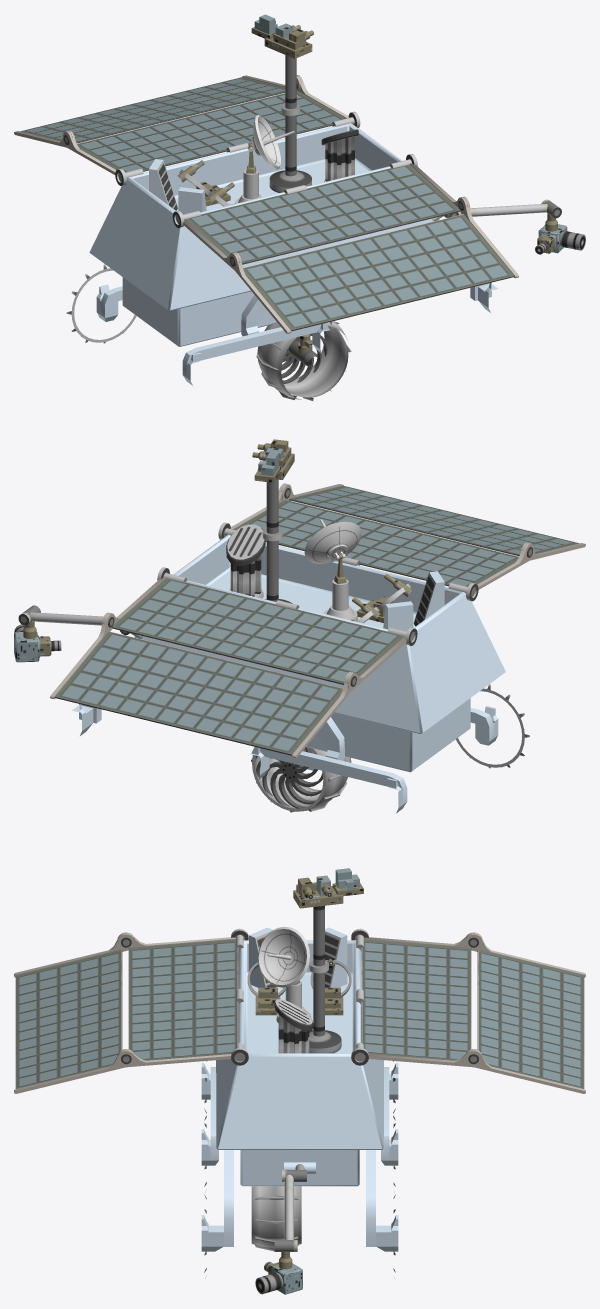
Rendered from yutu.glb.
3 renders of one model, top to bottom at view 1: azimuth 30°, elevation 25°; view 2: azimuth 150°, elevation 25°; view 3: azimuth 270°, elevation 25°, orthographic. The views are drawn at different scales.
Visible parts, largest first — view 1: Yutu_Body, Yutu_Wheel; view 2: Yutu_Body, Yutu_Wheel; view 3: Yutu_Body, Yutu_Wheel.
Boxes of the visible parts, x1,y1,x2,y2 form: Yutu_Body: (14, 14, 585, 385); Yutu_Wheel: (256, 321, 351, 400); Yutu_Body: (14, 439, 585, 813); Yutu_Wheel: (251, 747, 351, 812); Yutu_Body: (14, 868, 585, 1294); Yutu_Wheel: (251, 1186, 301, 1251).
Bounding box in the file's own units: 1.85 × 1.38 × 1.91.
2 materials, 1 textured.
